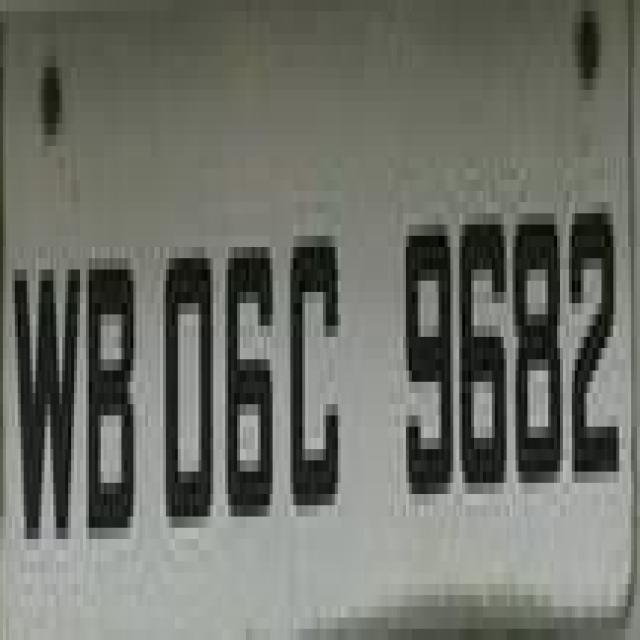plate: (0, 67, 616, 639)
